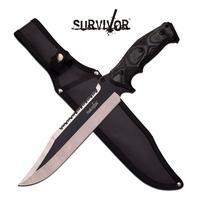knife: (15, 25, 172, 190)
